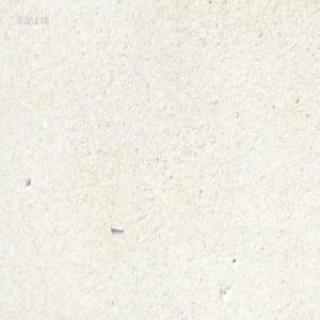Nailtrack_idkeyframe: (108, 222, 124, 232)
